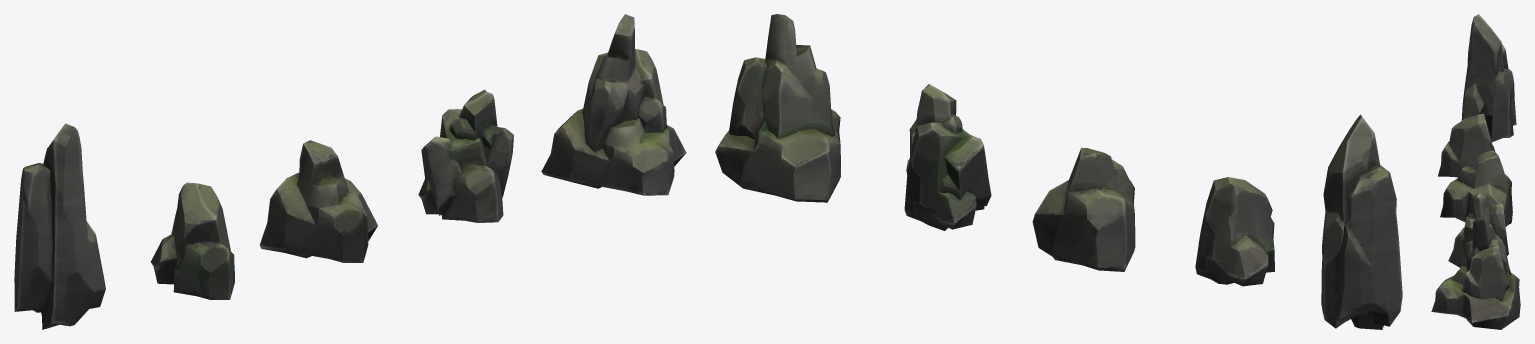
File: Rocks.glb
3 renders of one model, left to right at view 1: azimuth 30°, elevation 25°; view 2: azimuth 150°, elevation 25°; view 3: azimuth 270°, elevation 25°, orthographic. The views are drawn at different scales.
Parts seen in each view (by area): view 1: Rock_5, Rock_4, Rock_2, Rock_3, Rock_1; view 2: Rock_5, Rock_4, Rock_2, Rock_3, Rock_1; view 3: Rock_5, Rock_4, Rock_2, Rock_1, Rock_3.
Boxes of the visible parts, left/top/right/bottom form: Rock_5: left=541, top=14, right=686, bottom=195; Rock_4: left=14, top=123, right=105, bottom=329; Rock_2: left=260, top=140, right=377, bottom=262; Rock_3: left=418, top=89, right=513, bottom=222; Rock_1: left=151, top=182, right=234, bottom=299; Rock_5: left=715, top=14, right=840, bottom=202; Rock_4: left=1321, top=114, right=1402, bottom=329; Rock_2: left=1032, top=147, right=1135, bottom=271; Rock_3: left=904, top=84, right=991, bottom=230; Rock_1: left=1195, top=177, right=1274, bottom=286; Rock_5: left=1431, top=214, right=1520, bottom=329; Rock_4: left=1461, top=14, right=1516, bottom=142; Rock_2: left=1440, top=150, right=1512, bottom=226; Rock_1: left=1438, top=113, right=1495, bottom=177; Rock_3: left=1448, top=193, right=1508, bottom=267.
Bounding box in the file's own units: 7.28 × 2.15 × 1.32.
Materials: 1 (1 with a texture image).
